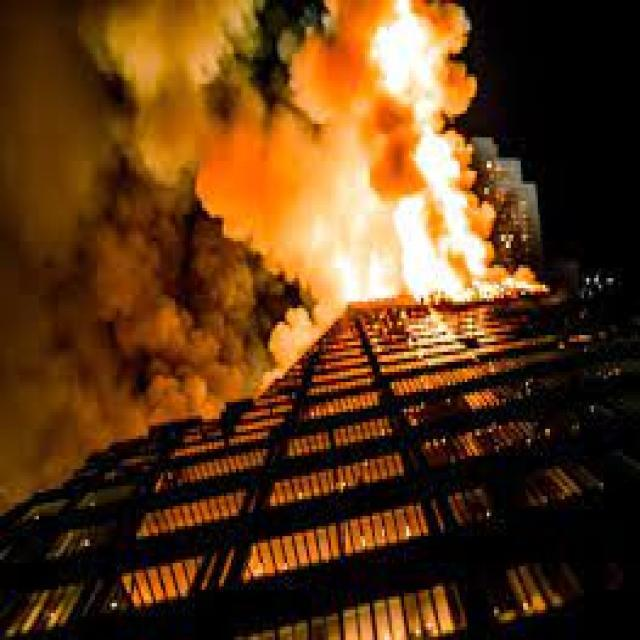Fire: (316, 232, 508, 336)
Smoke: (1, 3, 267, 395), (299, 0, 476, 208)
